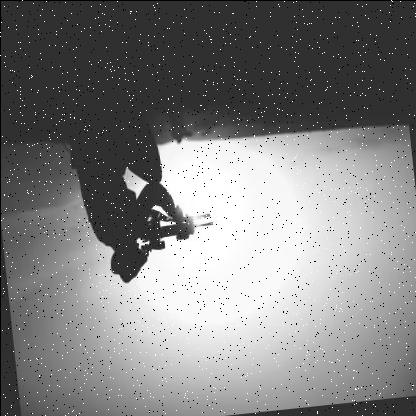rifle: (130, 196, 219, 258)
